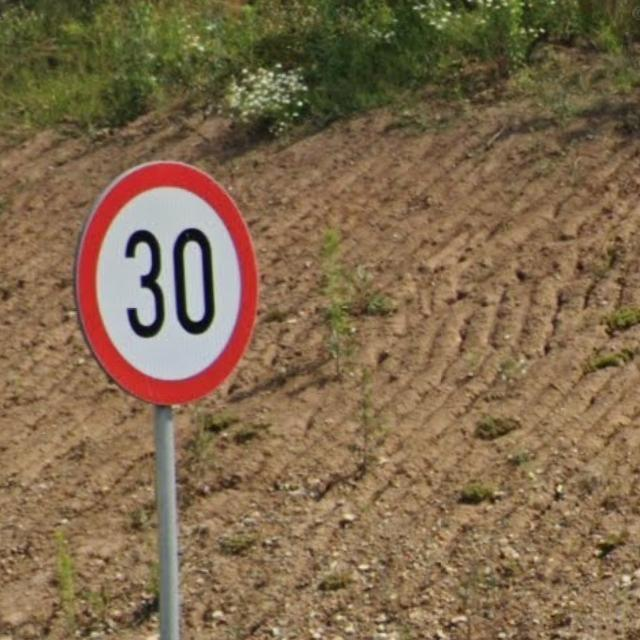forb_speed_over_30: (74, 158, 261, 403)
